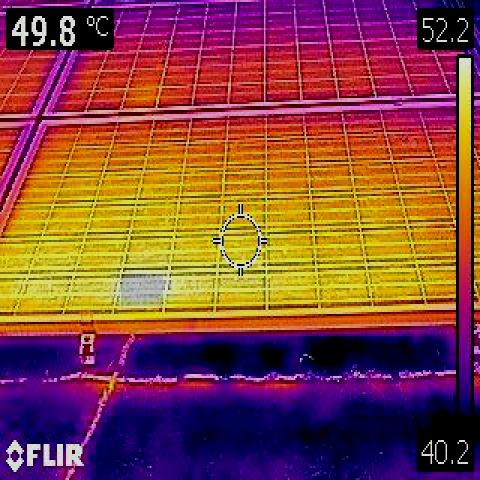fault: (121, 274, 163, 306)
